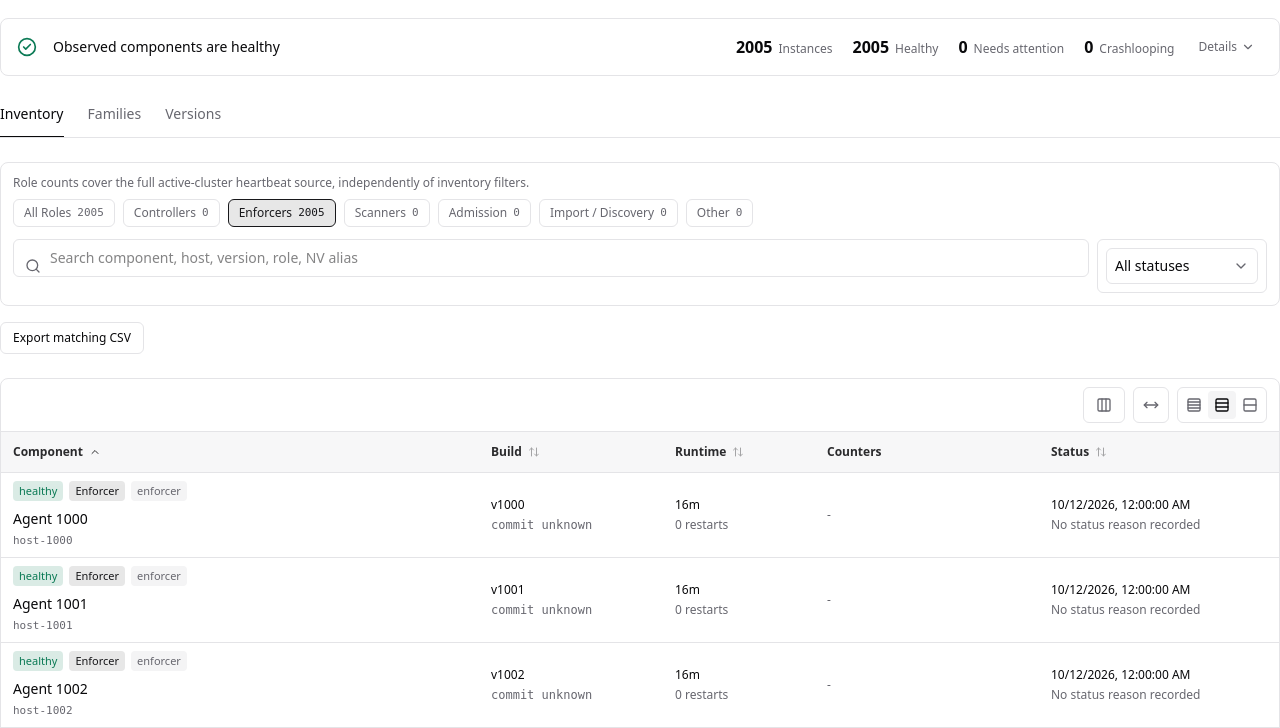
continues beyond the old1000 cap with full health/role totals and matching export
Check: the element with test id "component-summary" shows "2005", box x1=736 y1=36 x2=772 y2=58
Click the button "Export matching CSV". click: (72, 338)
box: x1=0 y1=322 x2=144 y2=354
(page scrolled)
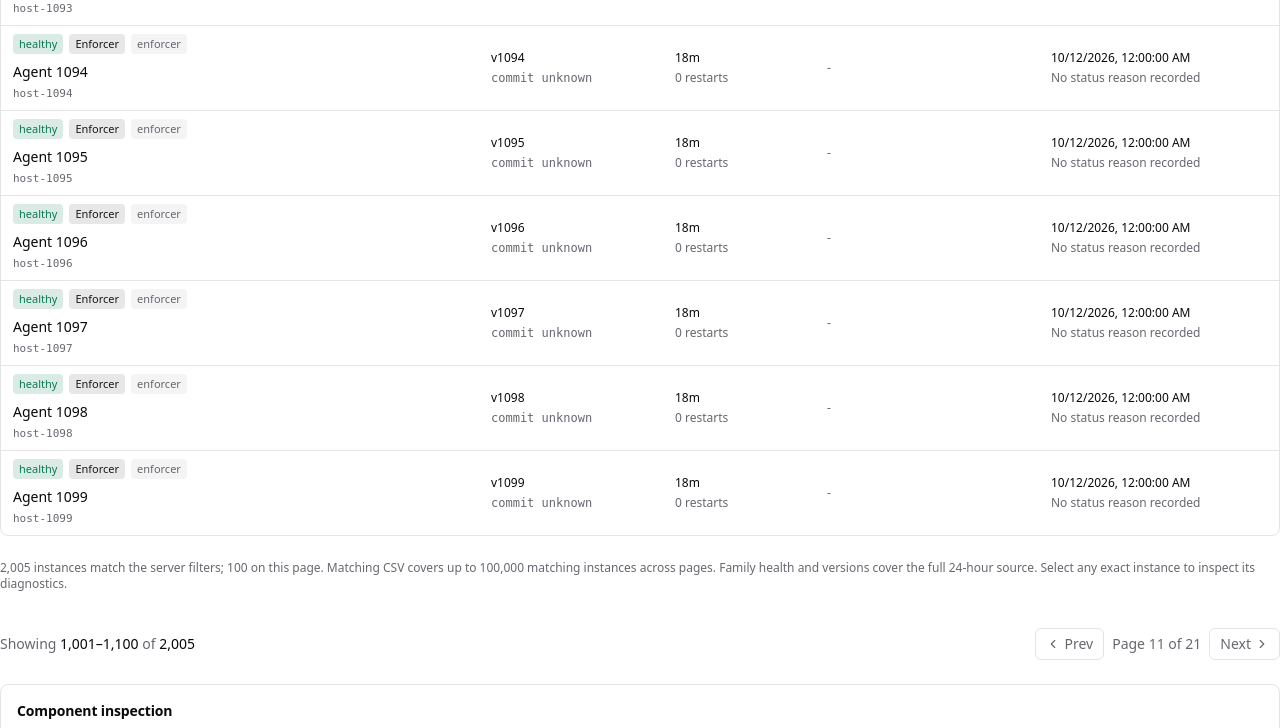
Click the button "Next". click: (1245, 644)
box: x1=1209 y1=628 x2=1279 y2=660
(page scrolled)
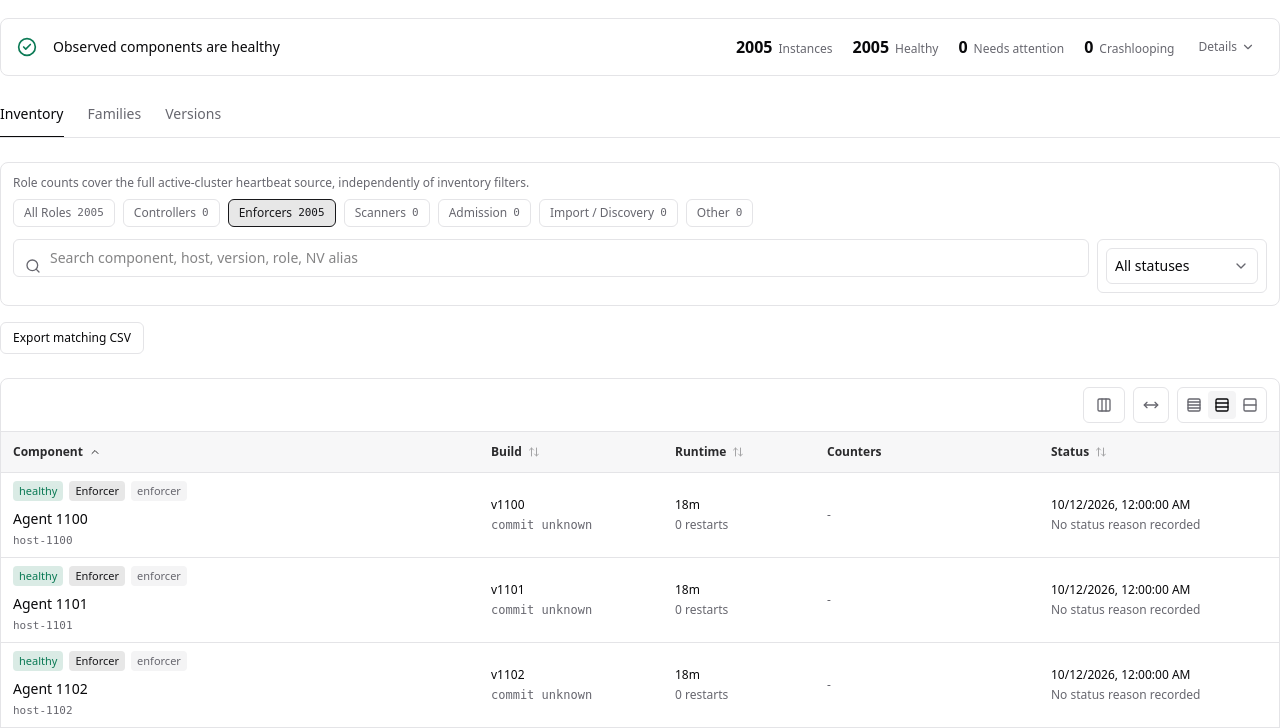
Check: the text "Agent 1100" is shown, box x1=13 y1=508 x2=88 y2=528
